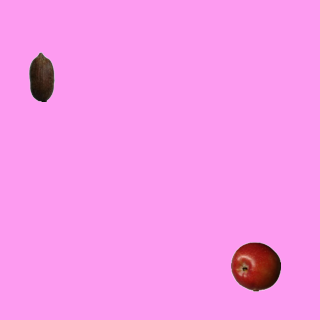Apple Braeburn: (230, 241, 280, 291)
Nut Pecan: (16, 51, 66, 101)
